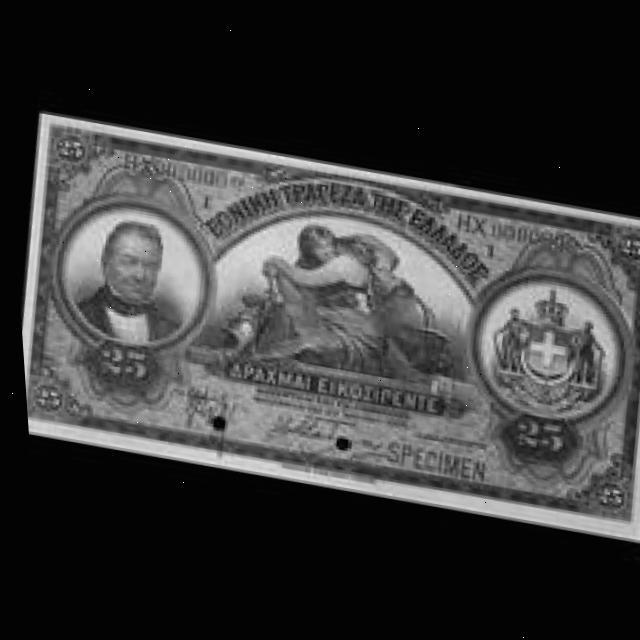banknote: (6, 107, 640, 538), (86, 335, 156, 391), (506, 408, 567, 461)
